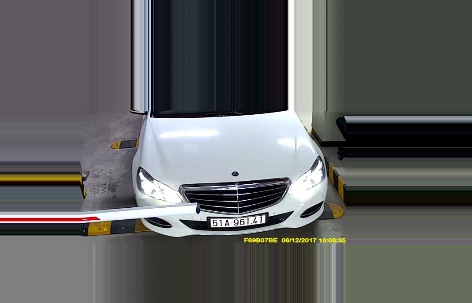plate: (209, 215, 268, 227)
